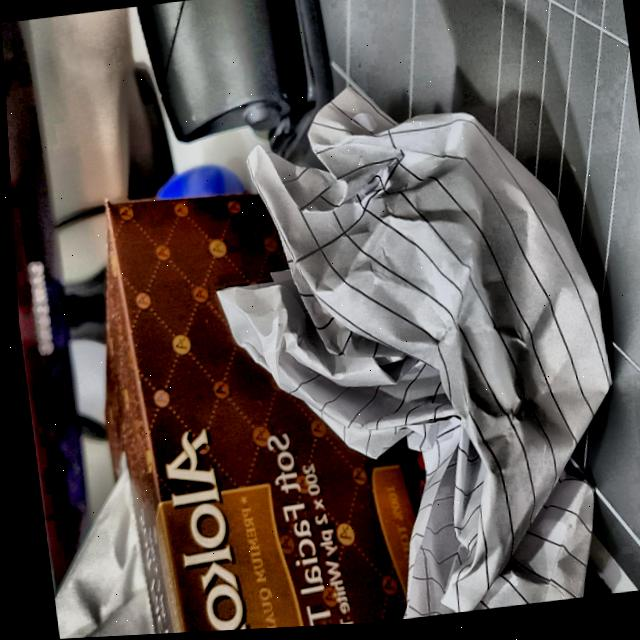paper: (197, 66, 631, 632)
